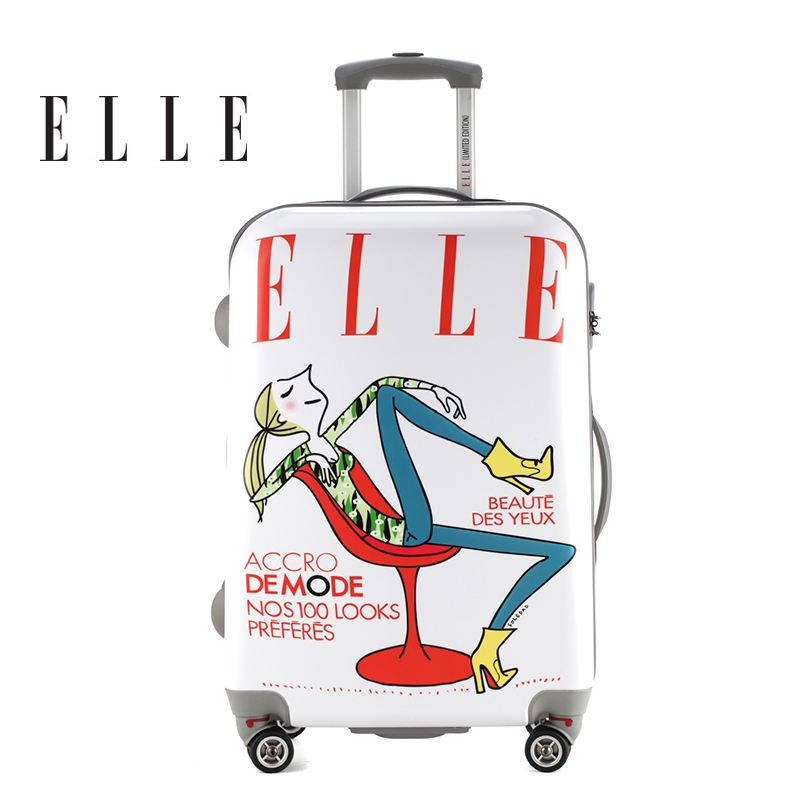box: (226, 204, 595, 728)
handle: (590, 408, 612, 538), (346, 185, 479, 201)
wheel: (524, 727, 571, 774), (246, 734, 295, 773)
